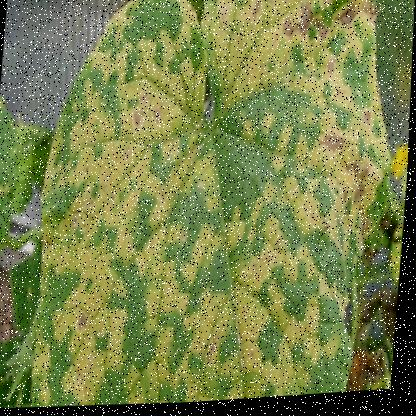DownyMildew: (45, 116, 222, 347), (53, 238, 284, 411), (220, 139, 385, 314), (214, 0, 378, 167), (84, 36, 210, 242), (211, 265, 352, 403)
